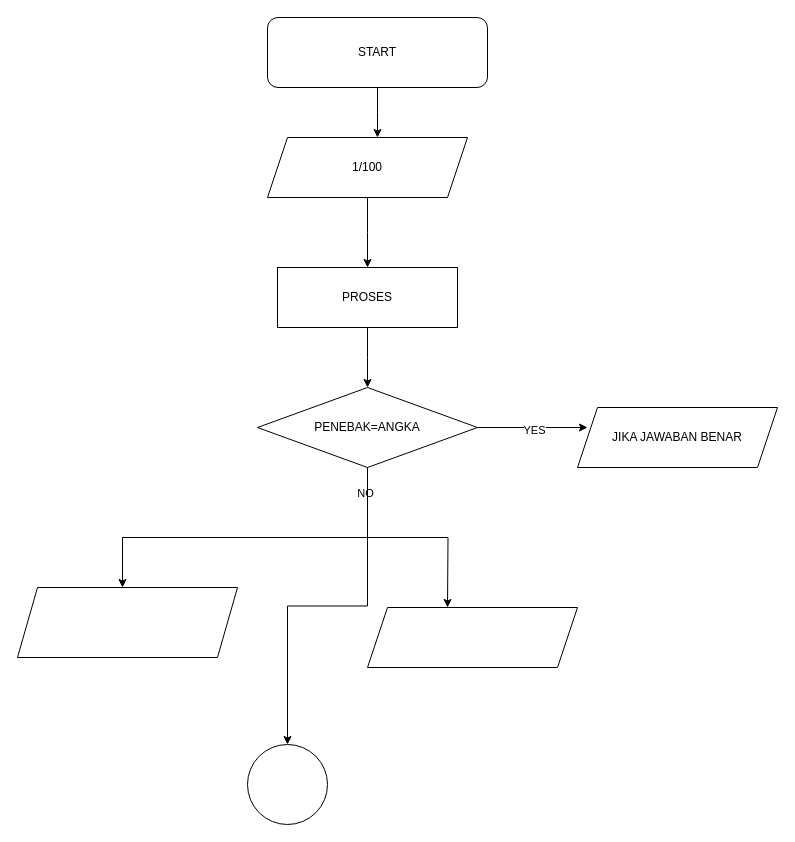
This 795x842 diagram has some shape labels left out. The centre of each missing label's shape, as x and y in pixels:
"END" belongs at (x=287, y=784).
"JIKA ANGKA LEBIH BESAR" belongs at (x=472, y=637).
"JIKA ANGKA LEBIH KECIL" belongs at (x=127, y=622).
